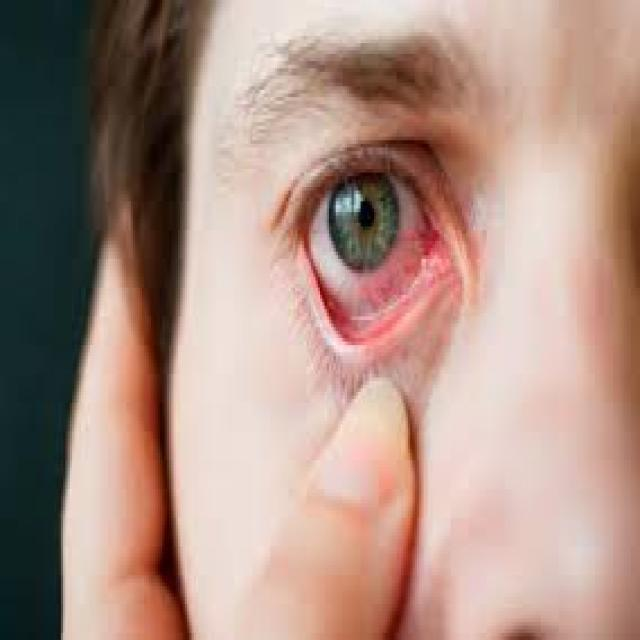Conjunctivitis: (324, 210, 466, 342)
